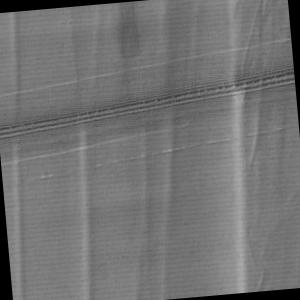Wrinkle: (118, 1, 227, 300), (52, 4, 131, 300), (209, 1, 269, 294), (1, 11, 51, 300)
